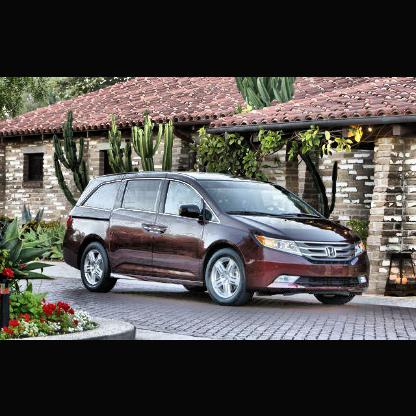Honda Odyssey Minivan 2012: (63, 172, 371, 307)
